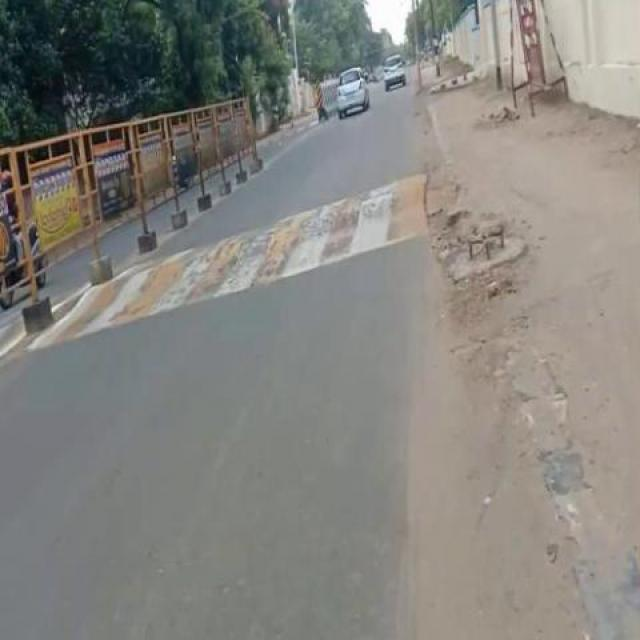Speed Bump: (246, 174, 429, 288), (156, 230, 248, 314), (53, 279, 112, 338), (113, 266, 155, 330), (1, 316, 20, 374)
